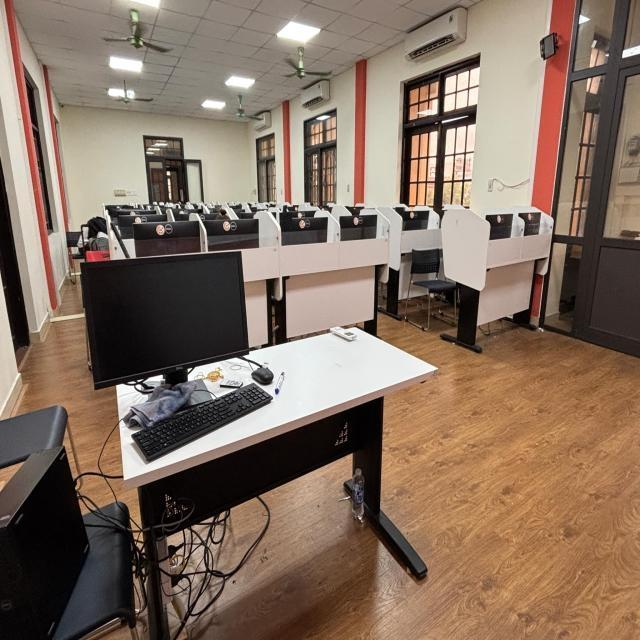obstacle: (116, 323, 438, 638)
